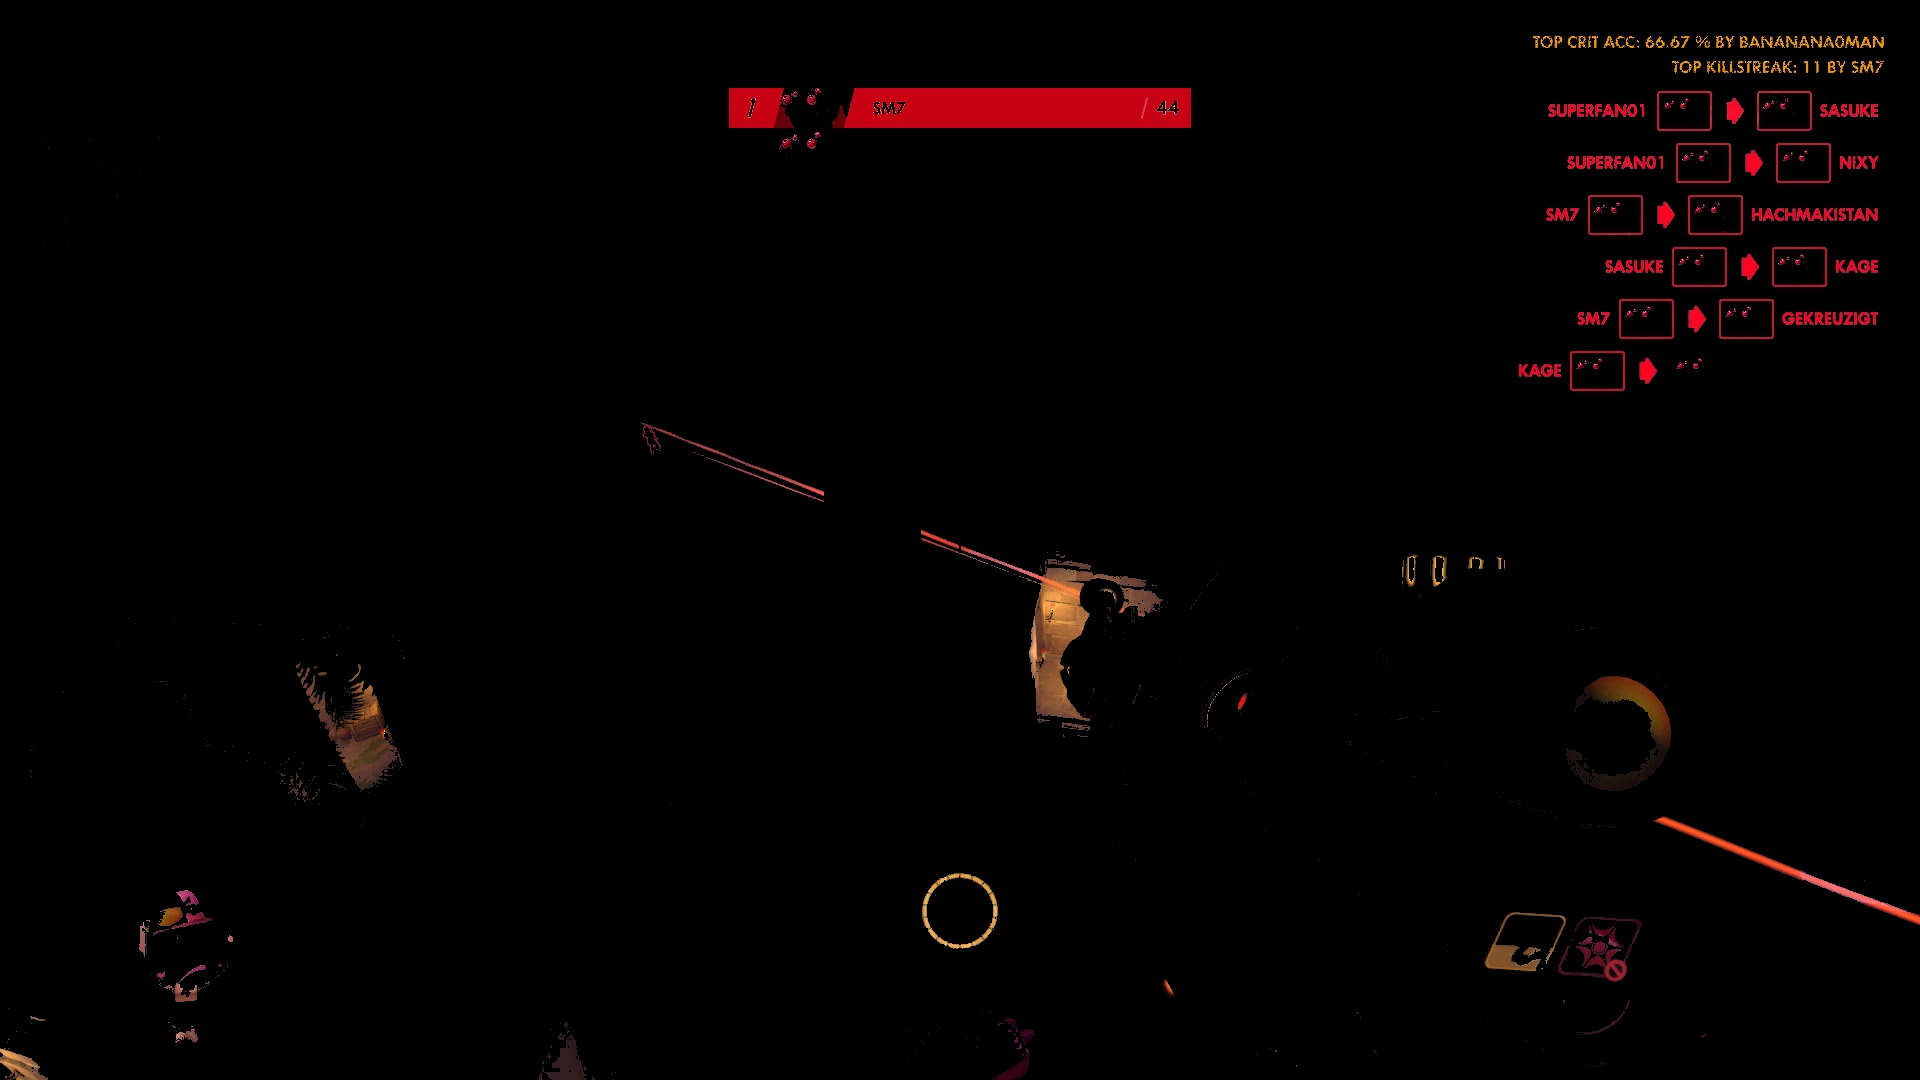widowmaker: (638, 422, 665, 460)
